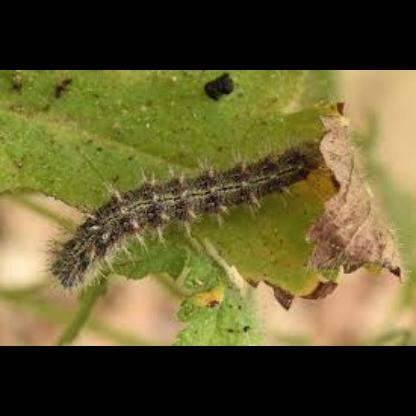oruga: (41, 134, 328, 302)
